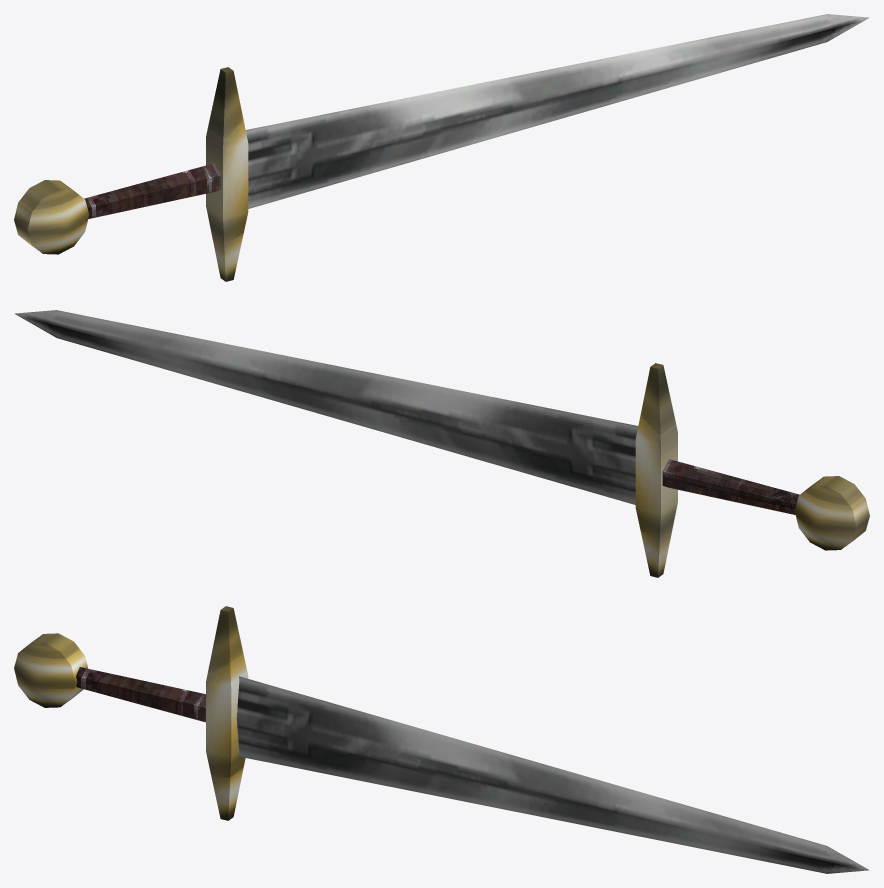
The picture shows the model from 3 angles, top to bottom: view 1: azimuth 30°, elevation 25°; view 2: azimuth 150°, elevation 25°; view 3: azimuth 330°, elevation 25°; orthographic projection.
Visible parts, largest first — view 1: it10654; view 2: it10654; view 3: it10654.
Part boxes in pixels (x1=…): it10654: x1=14, y1=14, x2=869, y2=281; it10654: x1=14, y1=310, x2=869, y2=577; it10654: x1=14, y1=606, x2=869, y2=873.
Size of the model in its own units: 4.08 by 0.9597 by 0.2612.
2 materials, 2 textured.
